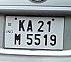1: (45, 19, 51, 32), (42, 32, 48, 45)
2: (36, 19, 45, 31)
5: (24, 32, 33, 44), (33, 32, 40, 45)
9: (49, 33, 56, 45)
A: (26, 18, 33, 31)
K: (17, 18, 25, 31)
M: (13, 31, 21, 45)
